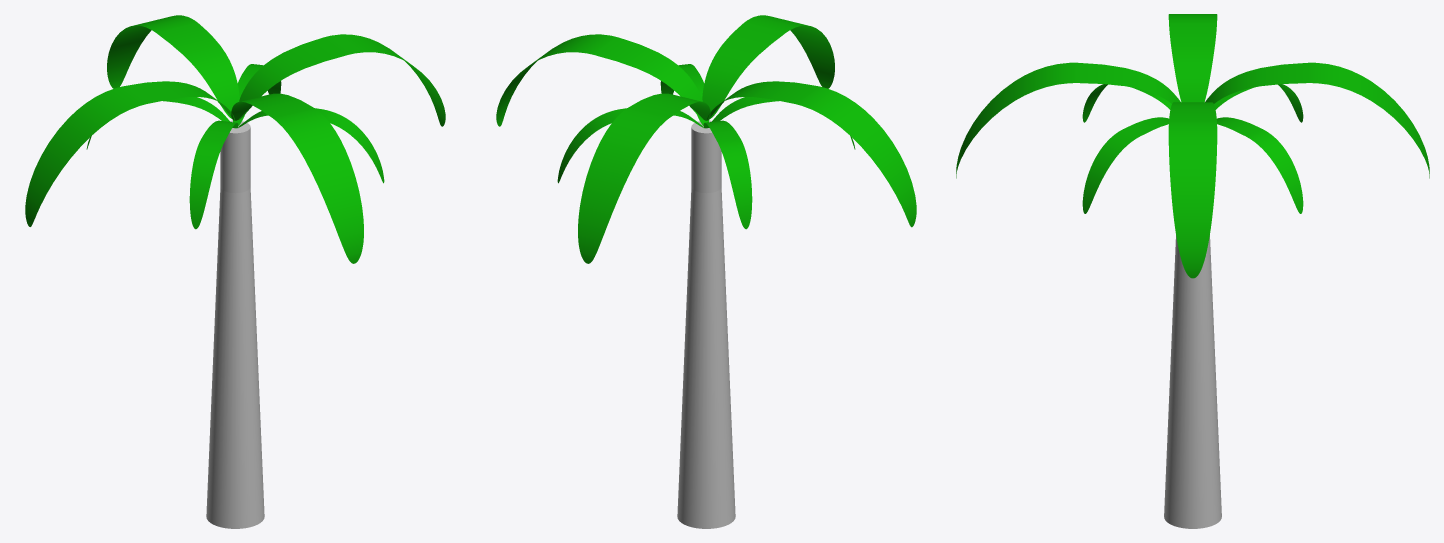
Rendered from DK's Jungle Parkway Tree 1.dae.
The picture shows the model from 3 angles, left to right: view 1: azimuth 30°, elevation 25°; view 2: azimuth 150°, elevation 25°; view 3: azimuth 270°, elevation 25°; orthographic projection.
Visible parts, largest first — view 1: Leaves, Tree; view 2: Leaves, Tree; view 3: Leaves, Tree.
Part boxes in pixels (box(x1,y1,x2,y2)): Leaves: box(25, 15, 445, 263); Tree: box(206, 120, 264, 528); Leaves: box(496, 15, 916, 263); Tree: box(677, 120, 735, 528); Leaves: box(956, 14, 1429, 278); Tree: box(1164, 235, 1221, 528).
Bounding box in the file's own units: 78.5 × 81.13 × 78.5.
